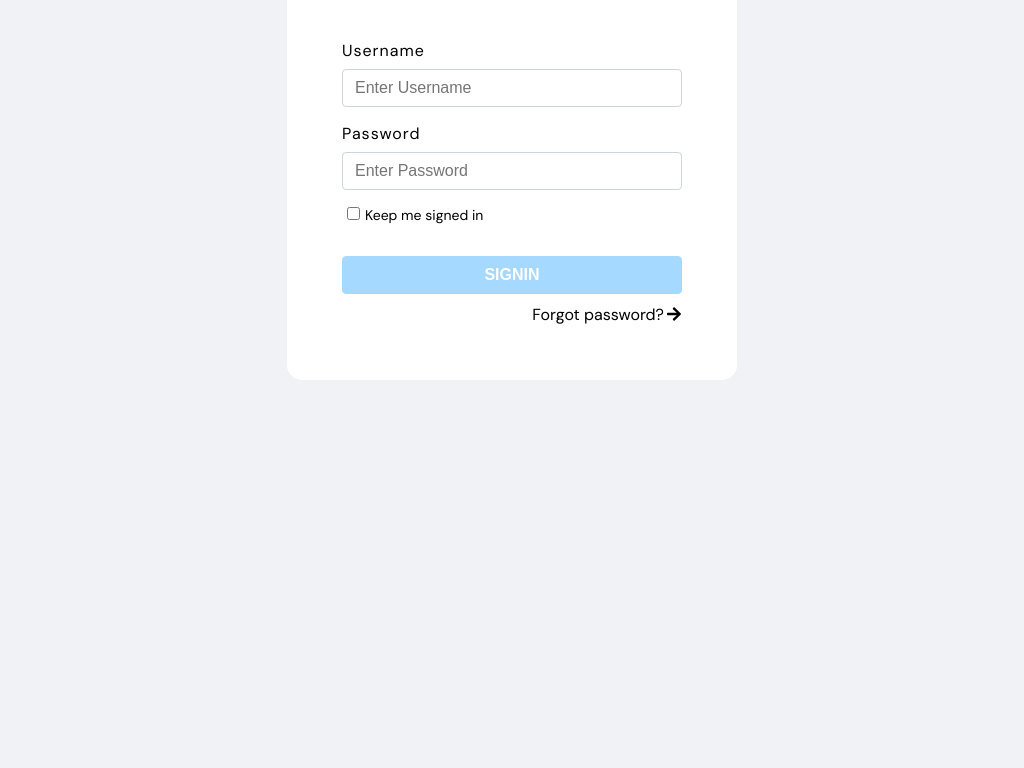
Test case: Error › should display error alert and border
Type "manny" into the field labelled "Username".
click(512, 88); type("manny")  # box [342, 69, 682, 107]
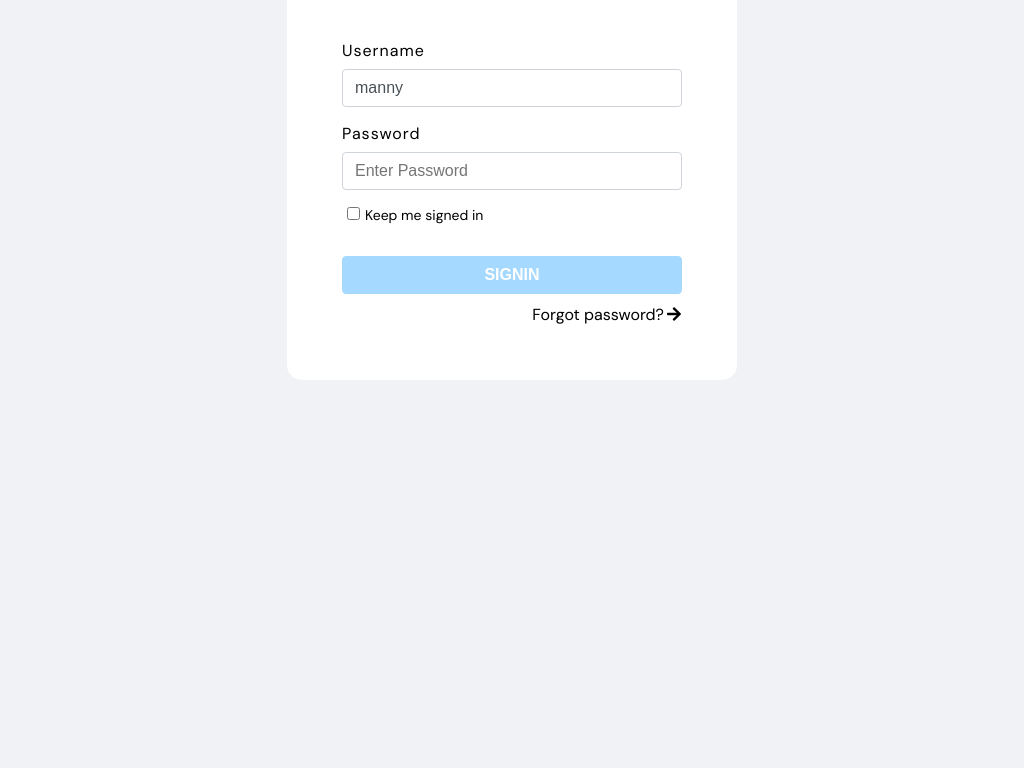
Type "qwerty" into the password field labelled "Password".
click(512, 171); type("qwerty")  # box [342, 152, 682, 190]
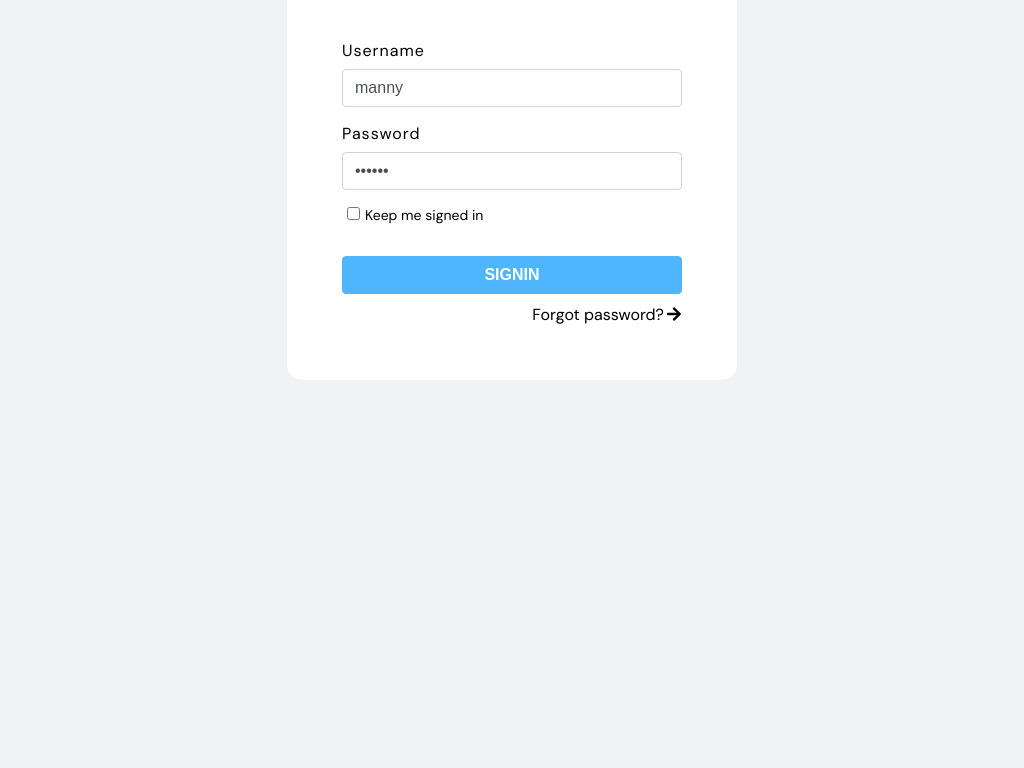
Click the button.
click(512, 275)  # box [342, 256, 682, 294]
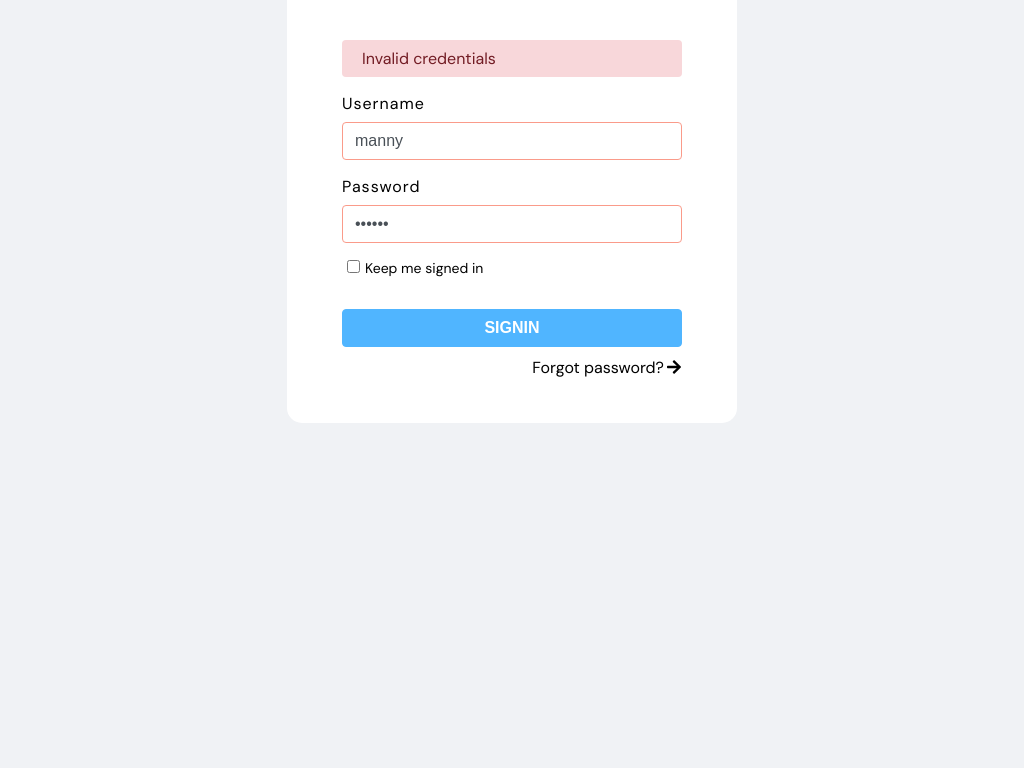
expect the message "Invalid credentials" is shown: met, box [342, 40, 682, 77]
expect the message reads "Invalid credentials": met, box [362, 48, 496, 69]
